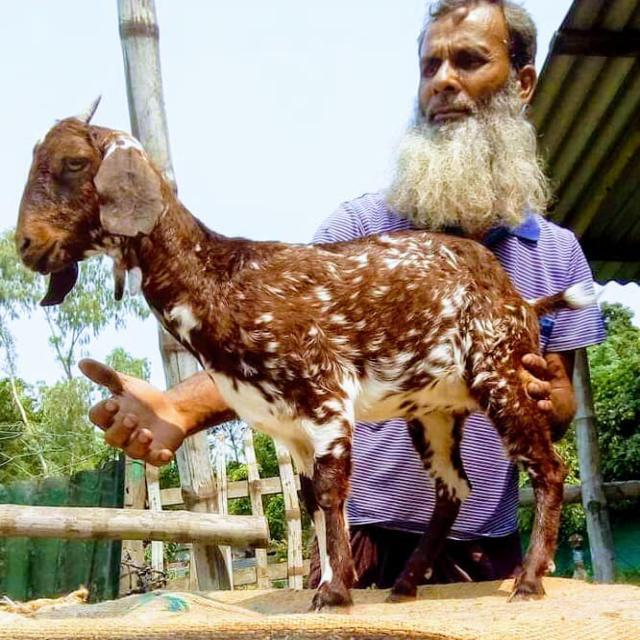Goat: (13, 94, 588, 612)
